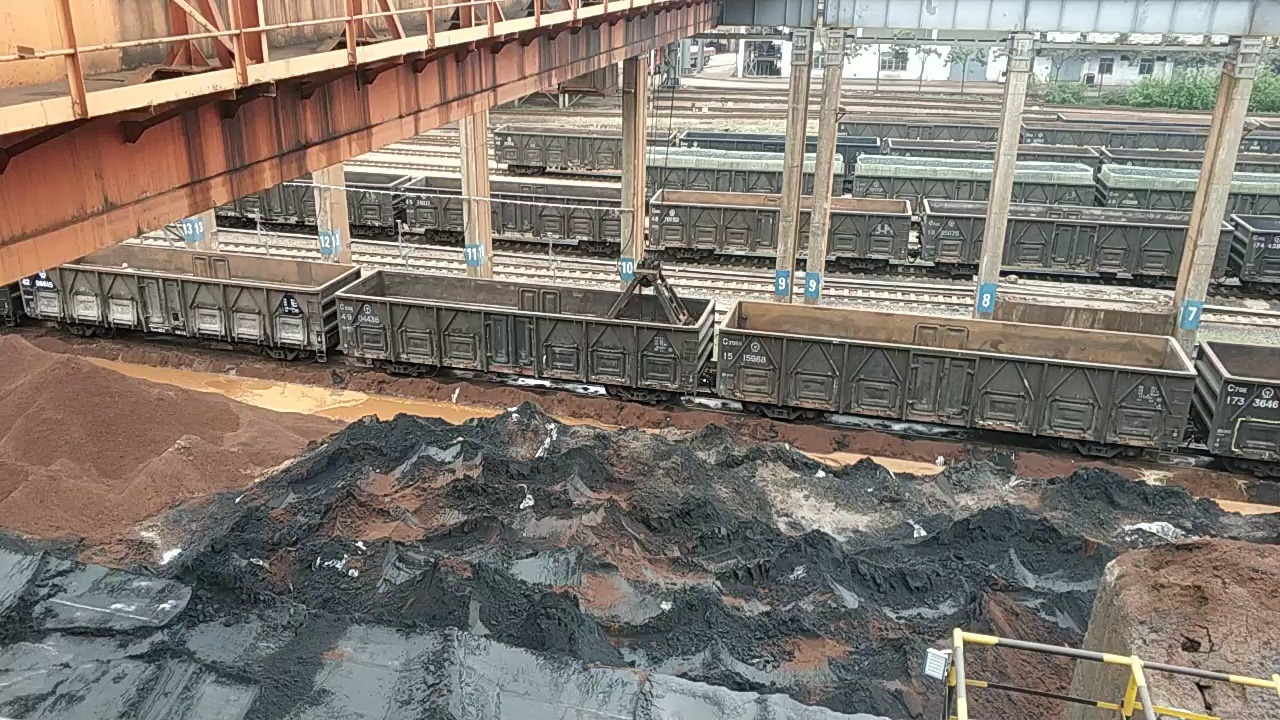grab: (601, 249, 696, 331)
